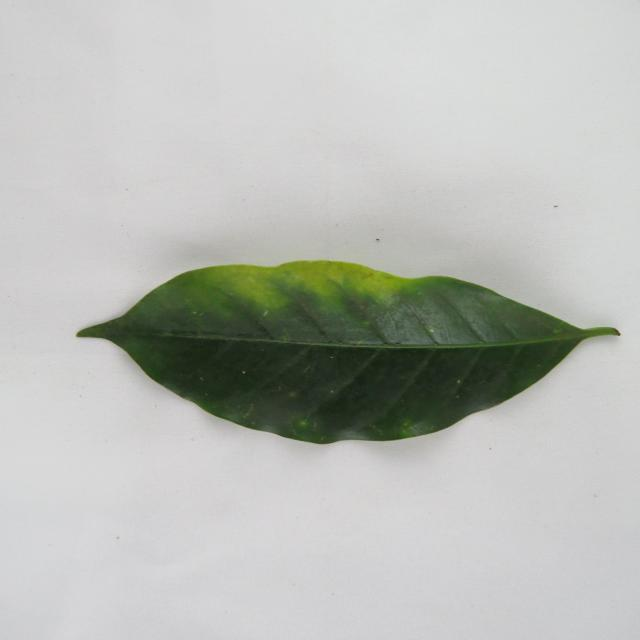DeficienciaNutricional-Potasio: (78, 261, 618, 444)
